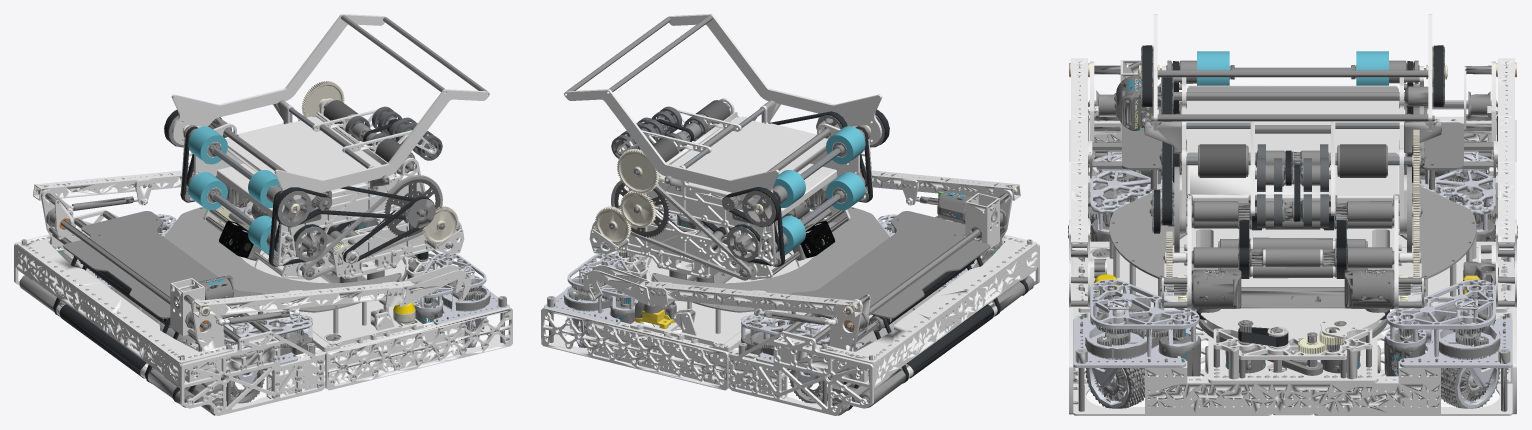
The model's file is typhoon-2910.glb.
The picture shows the model from 3 angles, left to right: view 1: azimuth 30°, elevation 25°; view 2: azimuth 150°, elevation 25°; view 3: azimuth 270°, elevation 25°; orthographic projection. The views are drawn at different scales.
Visible parts, largest first — view 1: shooter, intake, frame, climber, feeder, turret; view 2: shooter, intake, frame, climber, feeder, turret; view 3: frame, shooter, feeder, intake, turret, climber.
Boxes of the visible parts, <box> form: shooter: <box>164,14,489,266</box>; intake: <box>14,207,423,415</box>; frame: <box>63,211,512,408</box>; climber: <box>33,170,471,351</box>; feeder: <box>203,116,464,280</box>; turret: <box>256,218,441,283</box>; shooter: <box>564,14,889,266</box>; intake: <box>630,207,1039,415</box>; frame: <box>541,211,990,408</box>; climber: <box>583,170,1020,351</box>; feeder: <box>589,116,850,280</box>; turret: <box>612,218,797,283</box>; frame: <box>1069,109,1516,415</box>; shooter: <box>1138,14,1447,234</box>; feeder: <box>1150,166,1425,309</box>; intake: <box>1069,116,1516,329</box>; turret: <box>1184,228,1401,383</box>; climber: <box>1068,58,1517,322</box>.
Bounding box in the file's own units: 0.789 × 0.549 × 0.6761.
